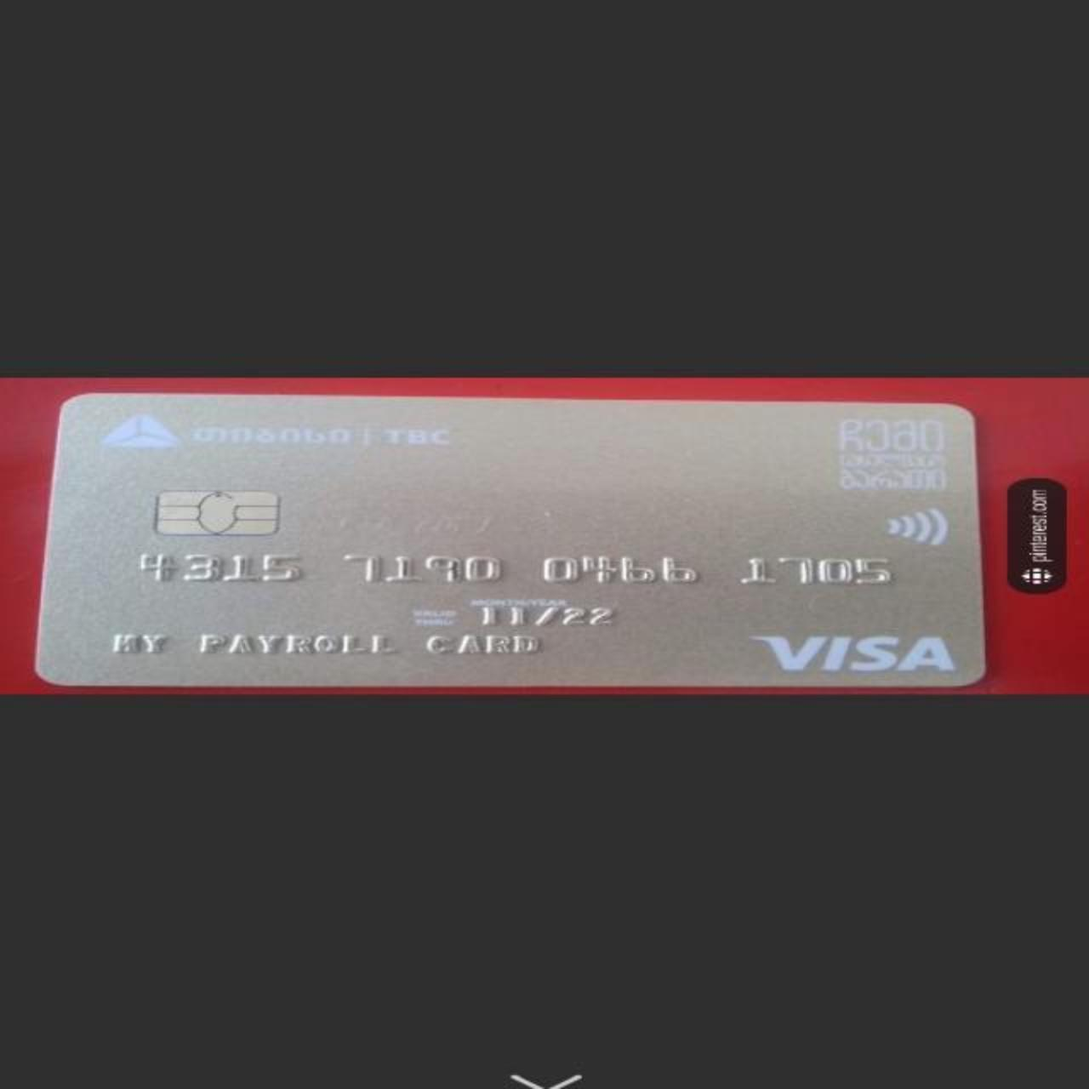credit_card: (31, 388, 1018, 694)
